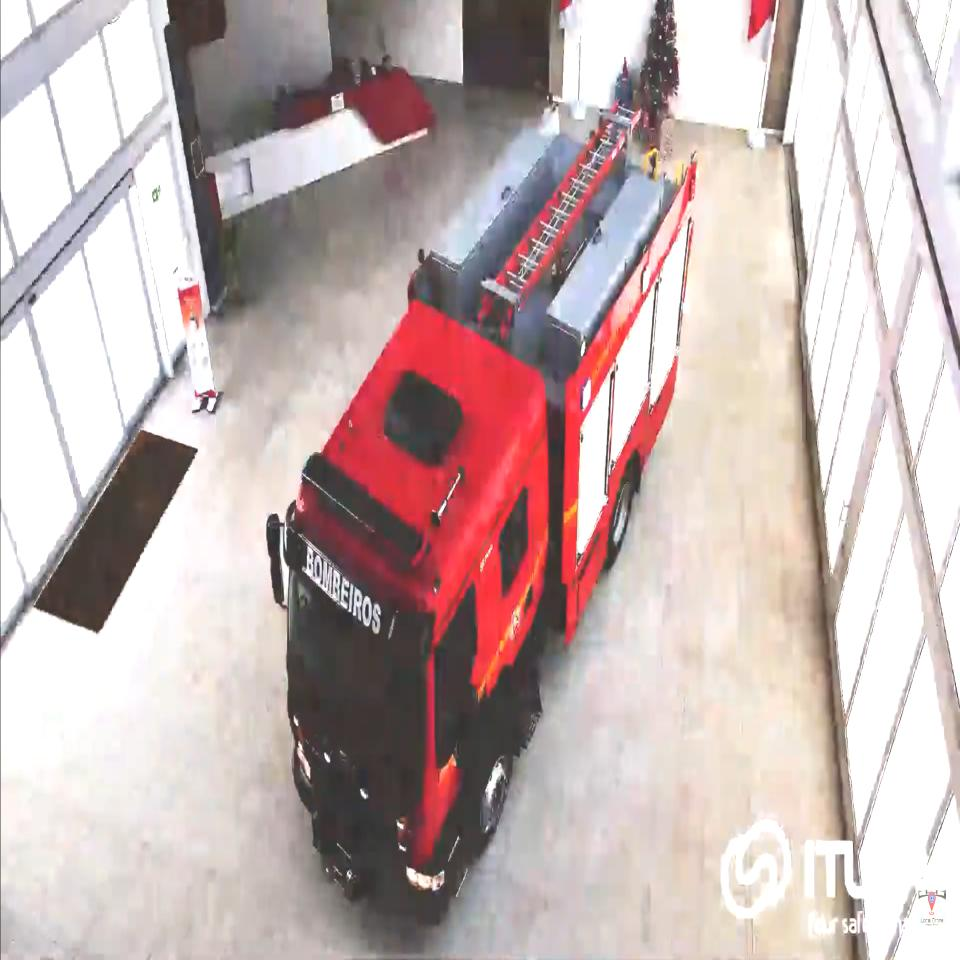bombeiro: (267, 110, 703, 926)
